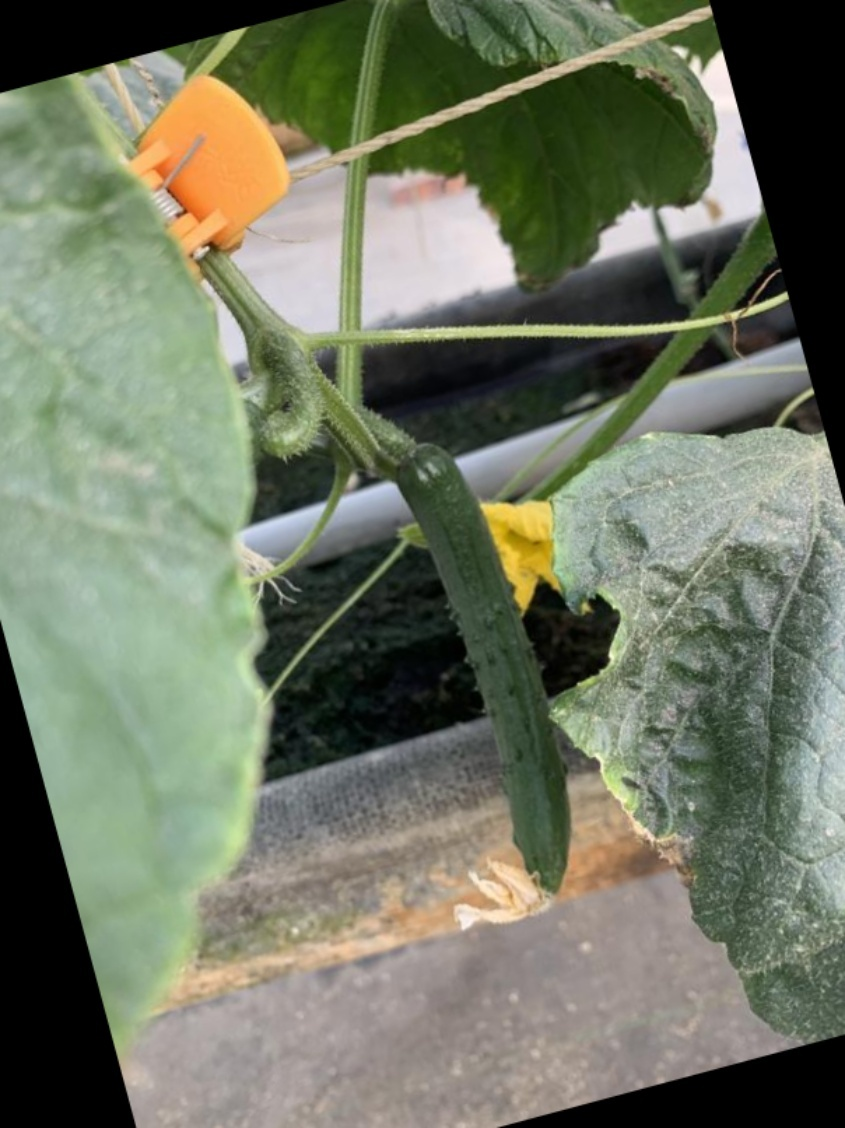mature: (402, 445, 585, 927)
